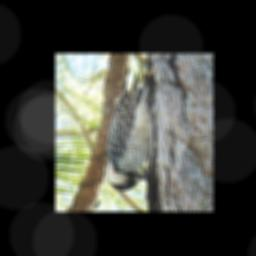Woodpecker: (105, 70, 154, 191)
